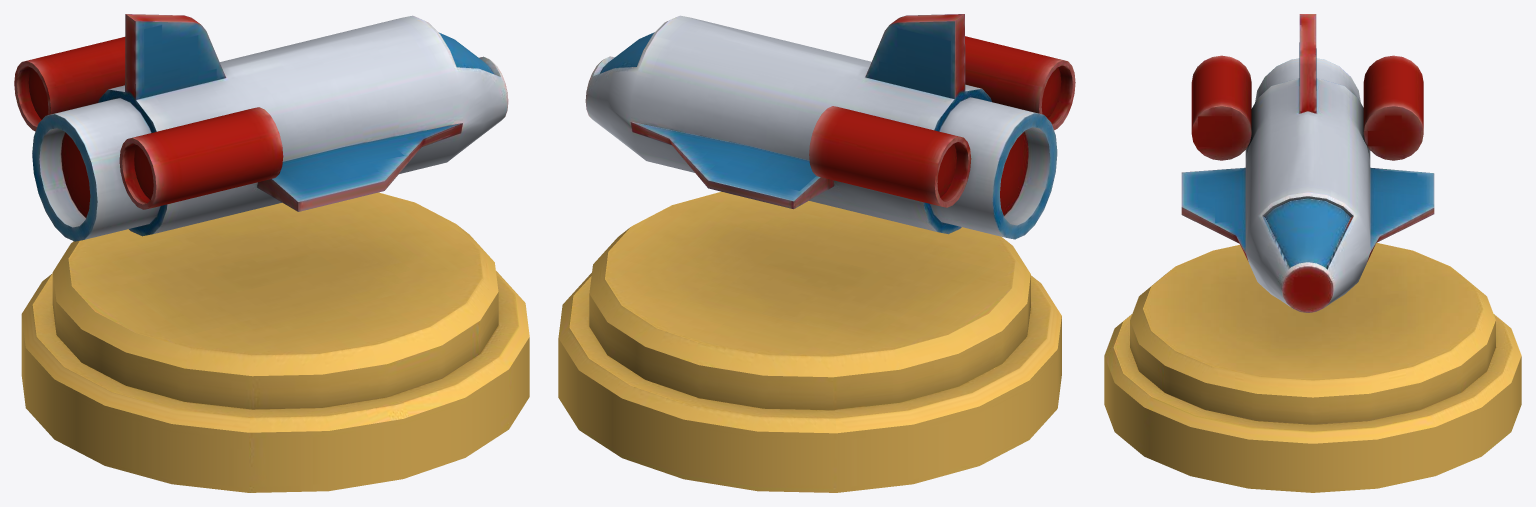
File: NAV1OURO.fbx
The picture shows the model from 3 angles, left to right: view 1: azimuth 30°, elevation 25°; view 2: azimuth 150°, elevation 25°; view 3: azimuth 270°, elevation 25°; orthographic projection. The views are drawn at different scales.
Parts seen in each view (by area): view 1: polySurface92, polySurface94; view 2: polySurface92, polySurface94; view 3: polySurface92, polySurface94.
Part boxes in pixels (x1,y1,x2,y2): polySurface92: [21, 192, 529, 492]; polySurface94: [14, 14, 508, 241]; polySurface92: [558, 191, 1061, 492]; polySurface94: [585, 14, 1075, 239]; polySurface92: [1104, 243, 1521, 492]; polySurface94: [1181, 14, 1434, 312].
Size of the model in its own units: 0.4773 by 0.4188 by 0.4773.
Materials: 1 (1 with a texture image).
